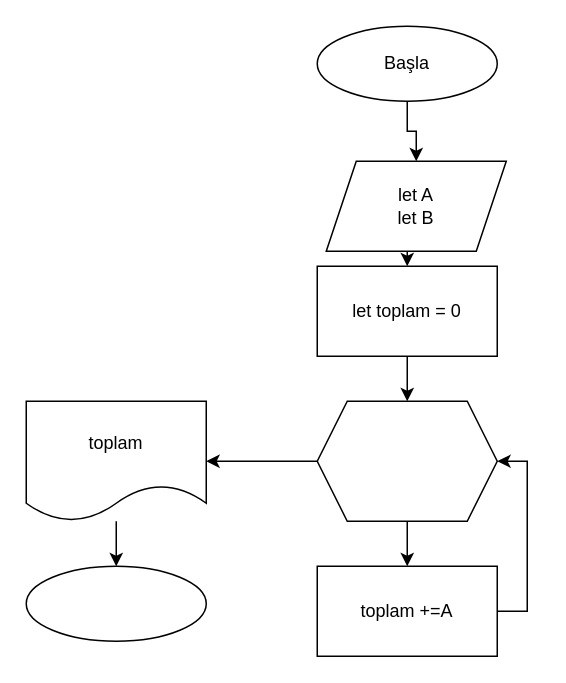
The diagram is 566 pixels wide and 683 high, and some of its shapes have lost their labels. The box of each missing label's shape, as (x1, y1, x2, y2) in pixels:
Bitiş: (25, 565, 206, 641)
i = 0; i < B; i++: (316, 400, 497, 521)
